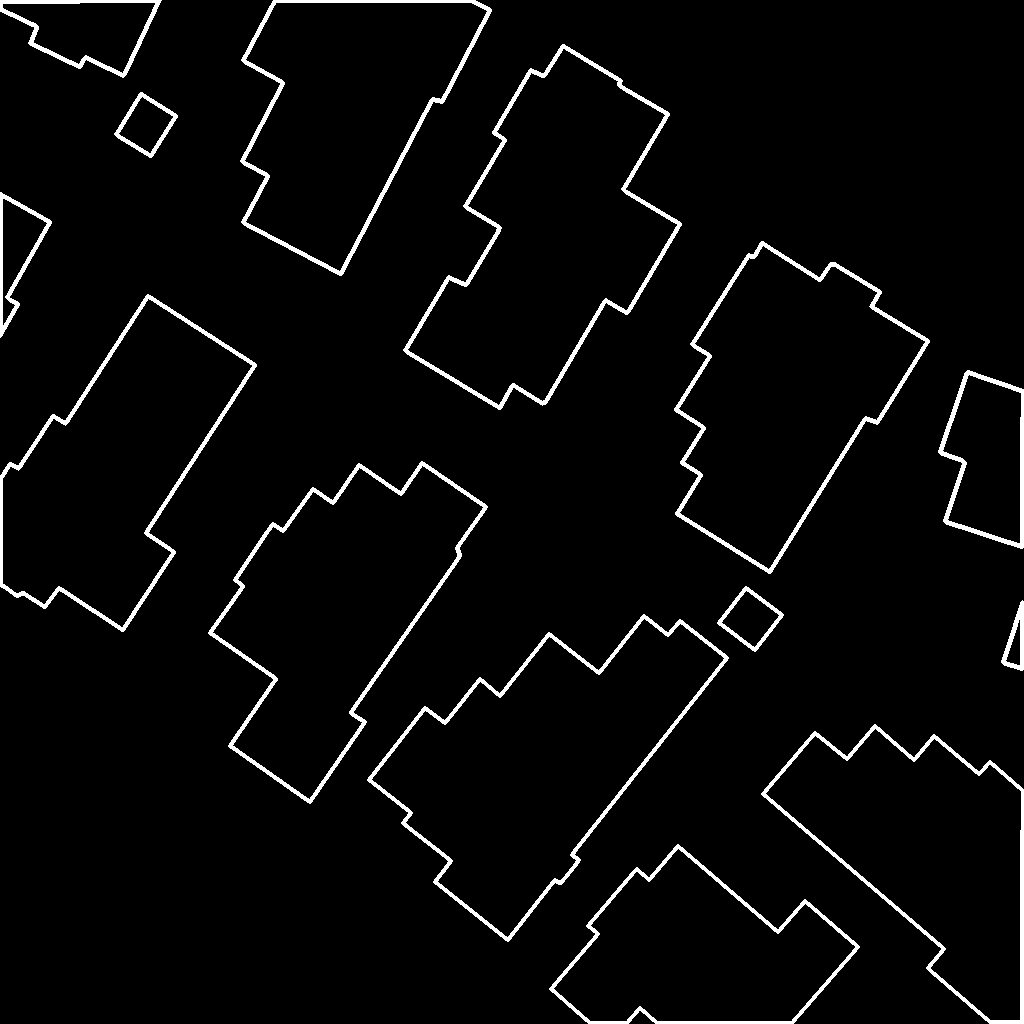building: (369, 616, 728, 941), (405, 46, 681, 409), (210, 463, 487, 803), (0, 296, 256, 631), (676, 243, 929, 573), (763, 726, 1024, 1024), (242, 0, 491, 275), (551, 846, 859, 1024), (940, 372, 1024, 670), (0, 0, 161, 77), (0, 194, 51, 337), (719, 588, 783, 651), (116, 94, 177, 157)
